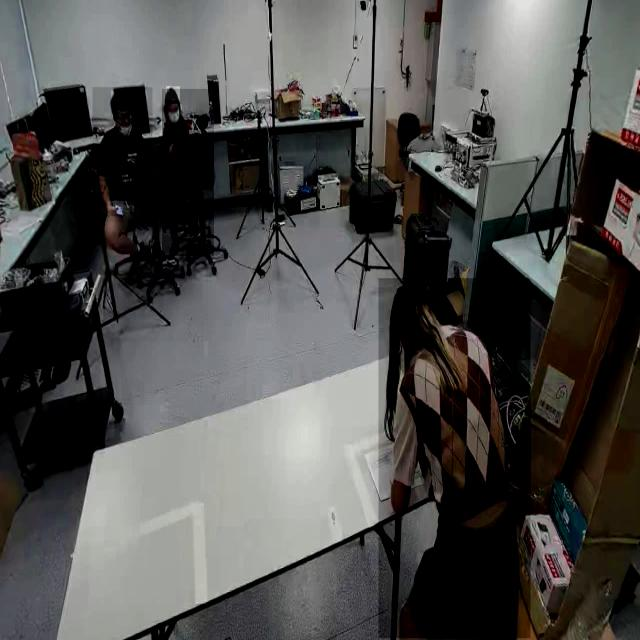face_mask: (168, 104, 182, 133)
hand_noglove: (107, 201, 123, 215), (168, 138, 178, 156)
head_nohelmet: (393, 278, 435, 318), (110, 90, 130, 106), (166, 86, 180, 102)
person: (378, 278, 530, 639), (162, 89, 214, 257), (92, 87, 152, 206)
